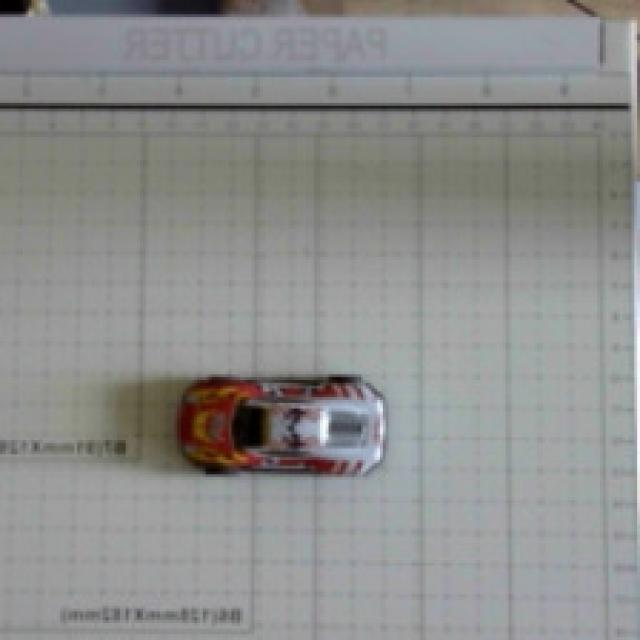Red Car: (131, 346, 436, 530)
